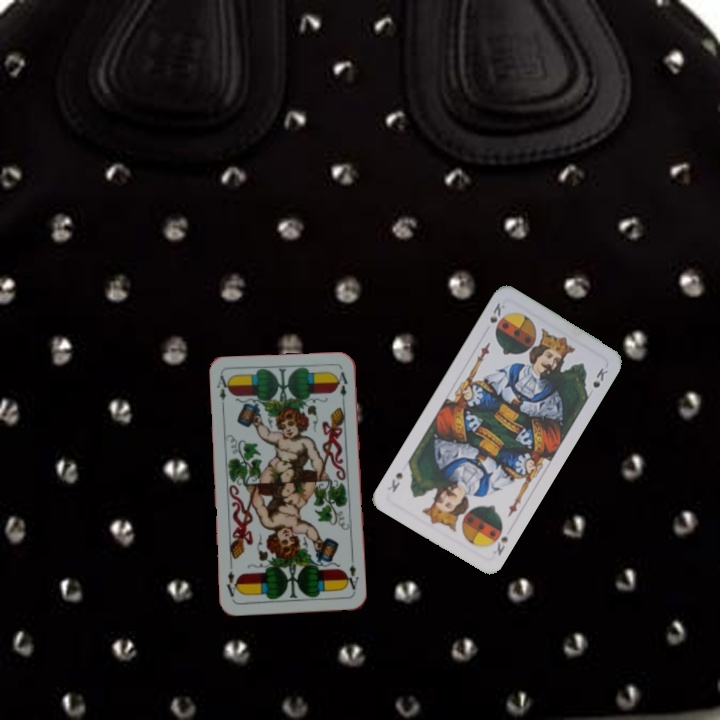EA: (341, 554, 361, 595), (213, 371, 233, 412)
SK: (486, 298, 508, 326), (489, 532, 511, 559)
